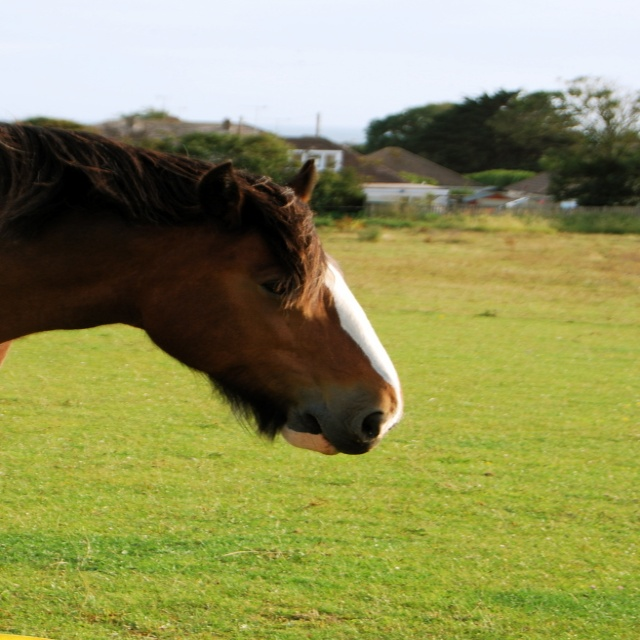Horse: (0, 120, 405, 454)
